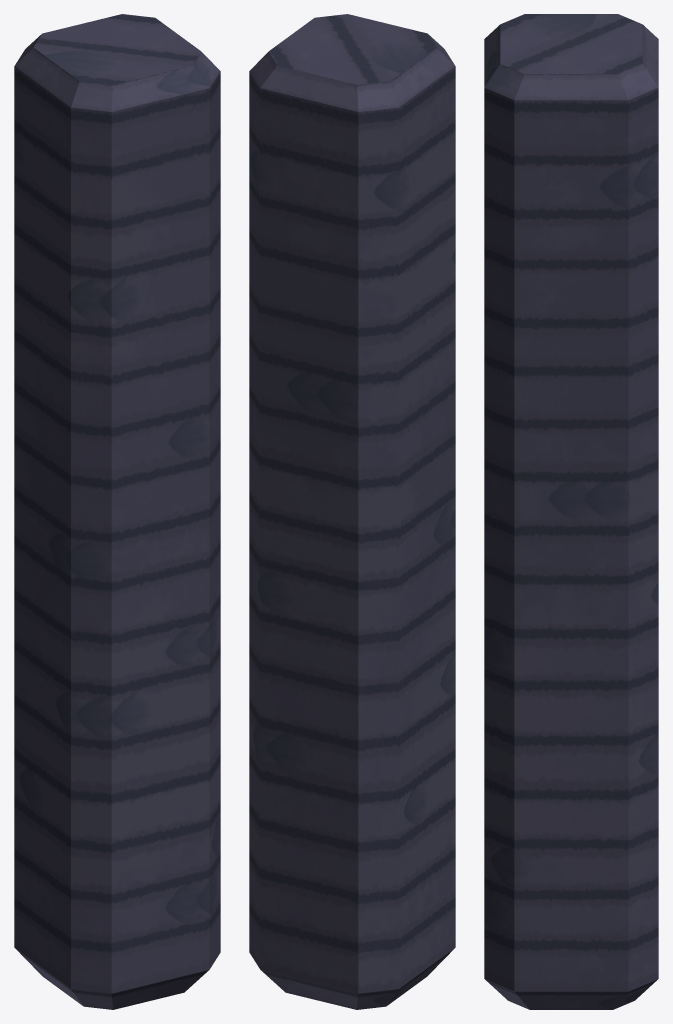
The model's file is Sunken Tomb Scaffold Pillar.fbx.
The picture shows the model from 3 angles, left to right: view 1: azimuth 30°, elevation 25°; view 2: azimuth 150°, elevation 25°; view 3: azimuth 270°, elevation 25°; orthographic projection.
Parts seen in each view (by area): view 1: Pillar Segment; view 2: Pillar Segment; view 3: Pillar Segment.
Boxes of the visible parts, x1=… form: Pillar Segment: x1=14, y1=14, x2=220, y2=1009; Pillar Segment: x1=249, y1=14, x2=455, y2=1009; Pillar Segment: x1=484, y1=14, x2=658, y2=1009.
Size of the model in its own units: 138 by 819 by 138.
